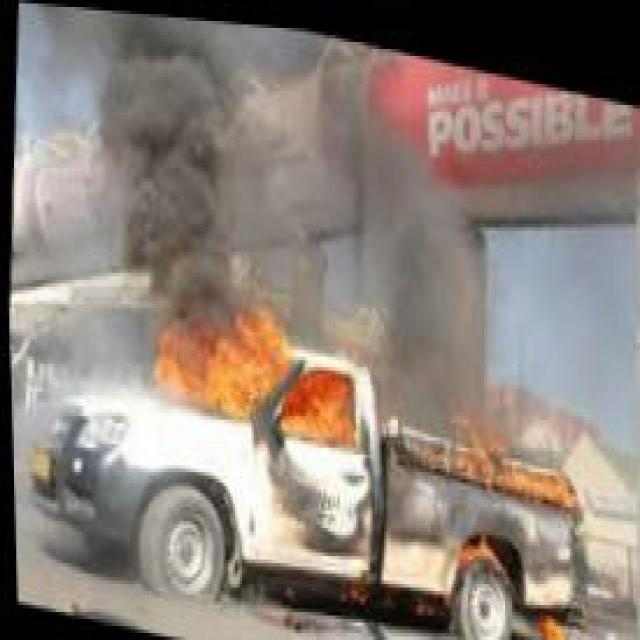Fire: (144, 269, 363, 448), (440, 396, 589, 504), (433, 500, 491, 577), (524, 577, 592, 637)
Smoke: (300, 24, 526, 388), (2, 0, 254, 287)
